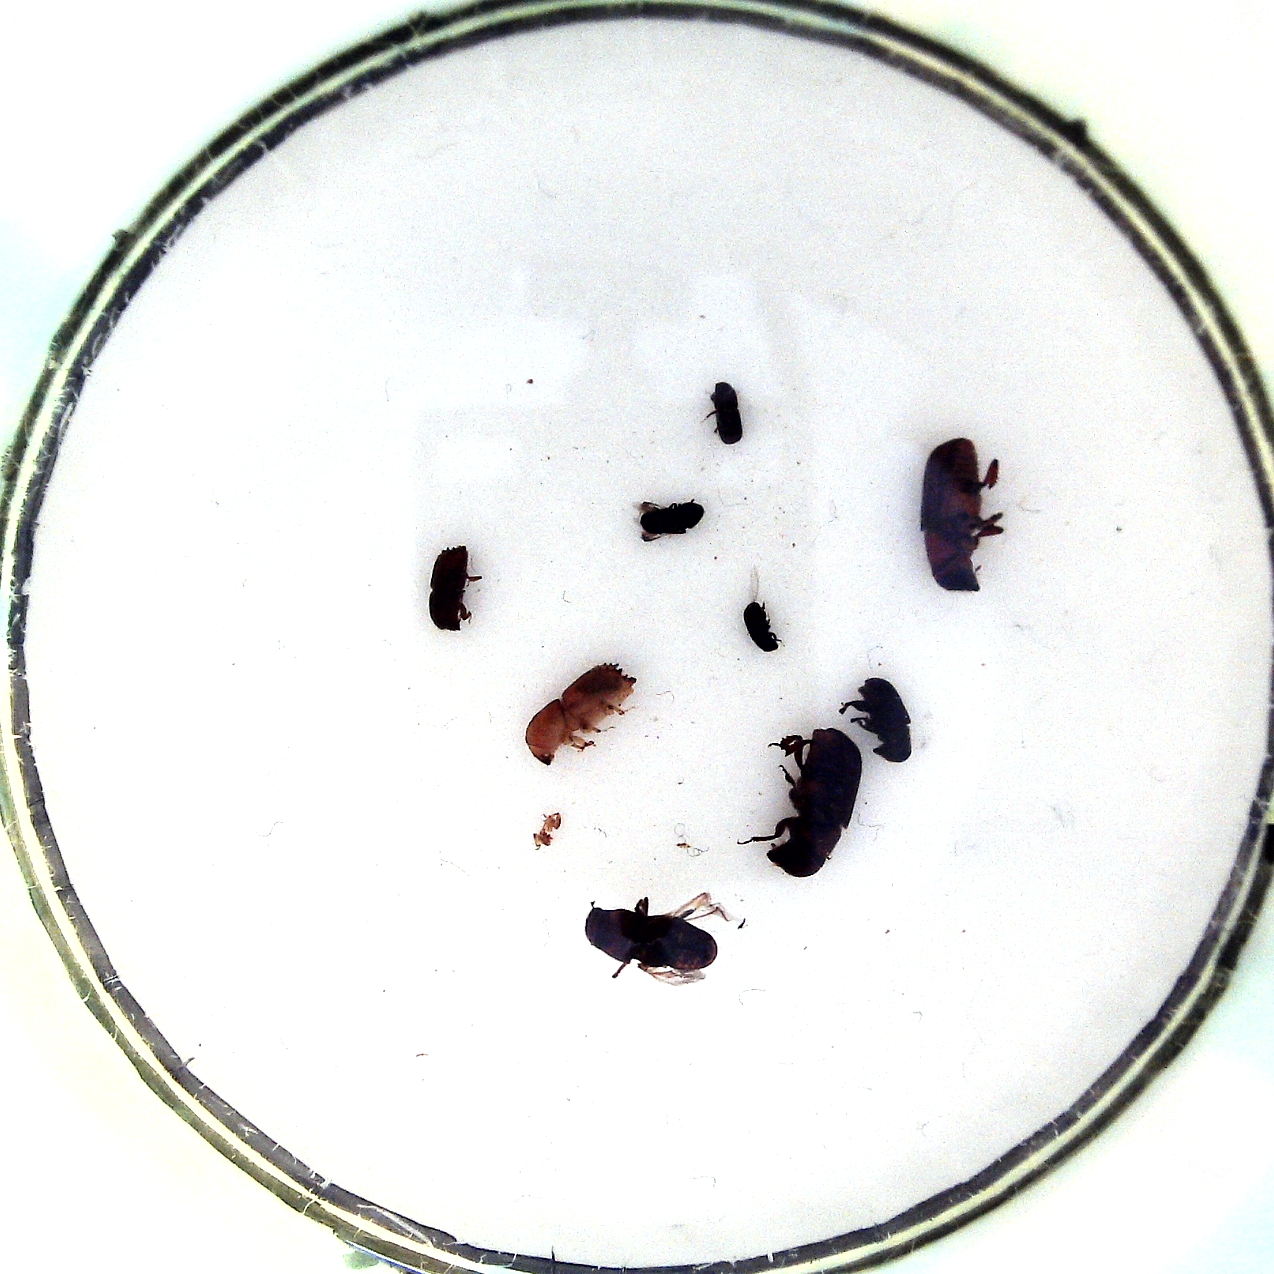Boerner: (517, 658, 646, 766)
Leconte: (738, 723, 866, 878), (582, 887, 730, 989), (915, 435, 1005, 600)
Linnaeus: (423, 538, 481, 636)
armandi: (835, 668, 918, 769)
coleoptera: (628, 489, 710, 545), (738, 561, 783, 661), (700, 376, 749, 452)
